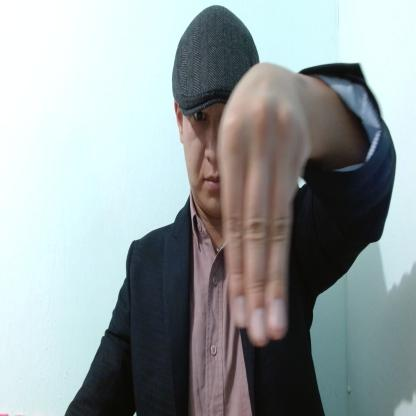M: (219, 62, 314, 345)
